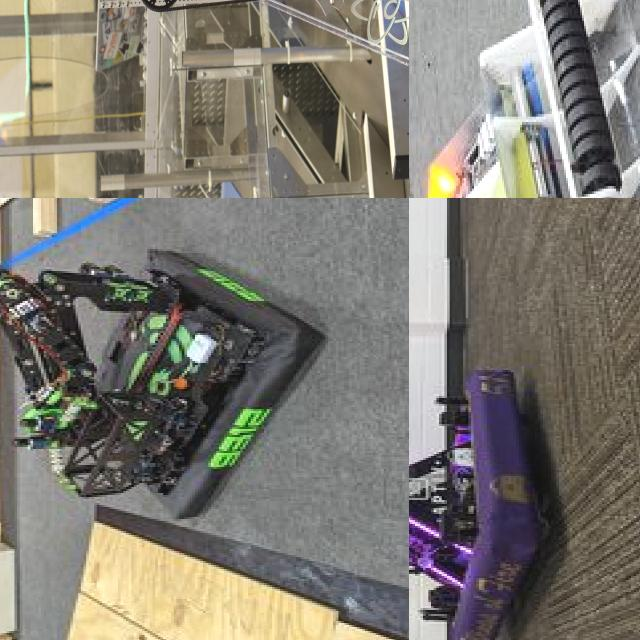FRC-Robots: (0, 210, 371, 525), (82, 0, 409, 193), (409, 259, 541, 640), (409, 0, 640, 198)
